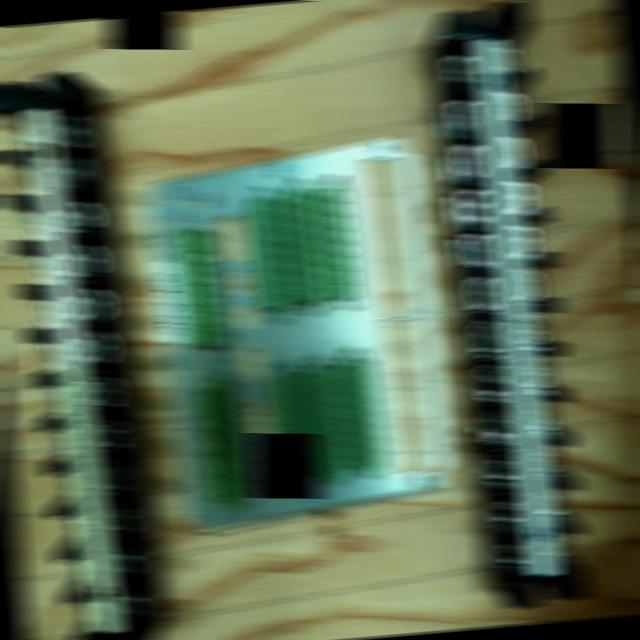Flathead_Block: (0, 72, 151, 640)
Phillips_Block: (443, 0, 592, 608)
Terminal_1: (196, 385, 244, 504), (176, 227, 223, 347)
Terminal_2: (248, 193, 294, 310), (282, 186, 328, 302), (304, 367, 350, 481), (268, 374, 314, 487), (340, 358, 385, 473)
